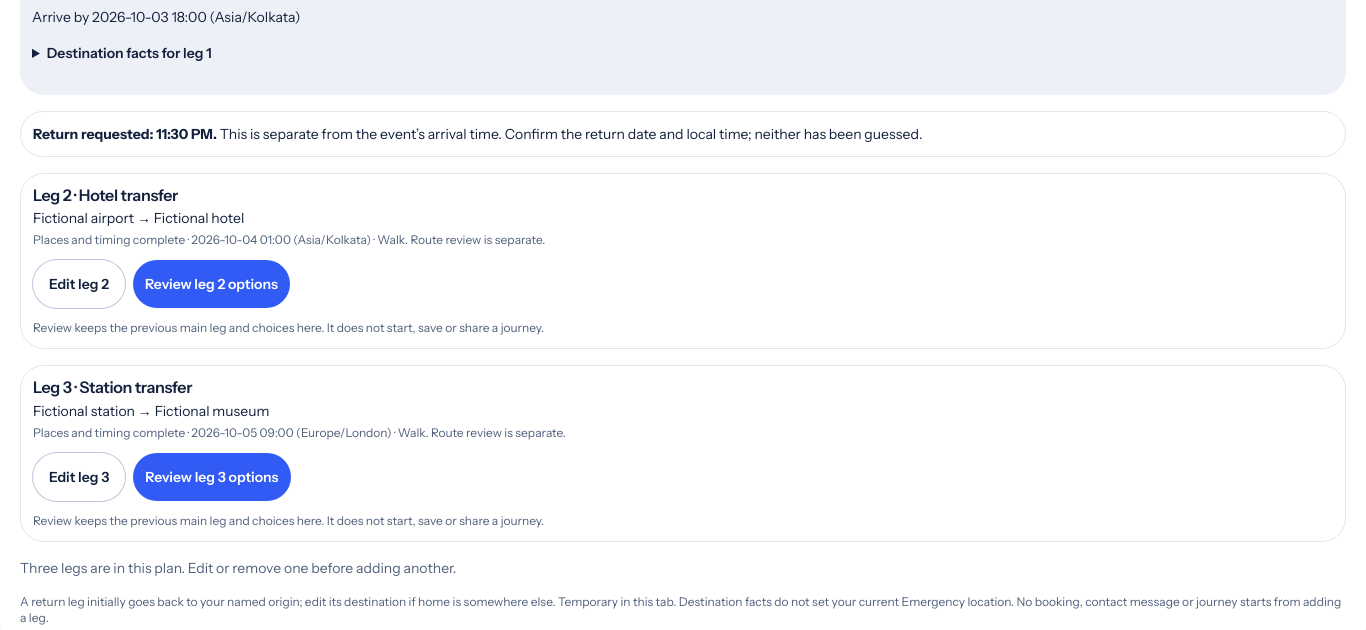
Test: progressive event return and editable travel legs › collapses completed legs, retains other legs during editing, and requires ambiguity resolution after failed search
Click the button "Edit leg 3": (79, 477) [33,453,125,501]
(page scrolled)
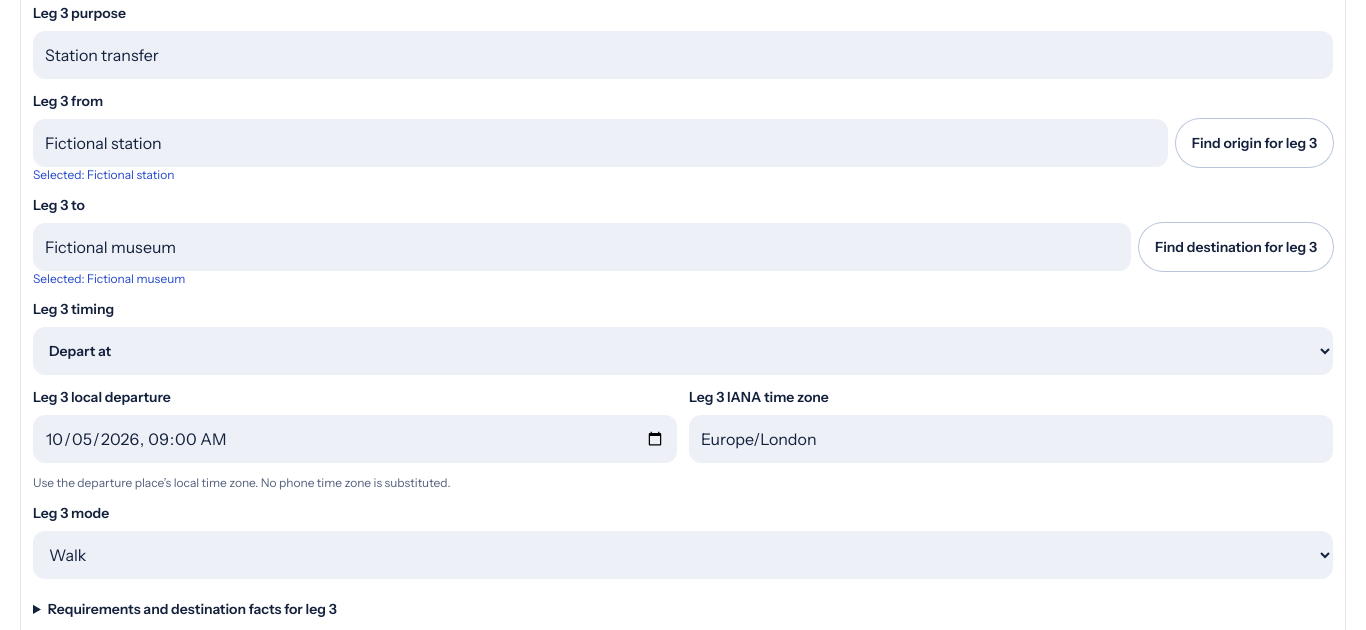
Replace the text in the field labelled "Leg 3 to" with "Ambiguous fictional hotel": (582, 247) [33,223,1131,271]
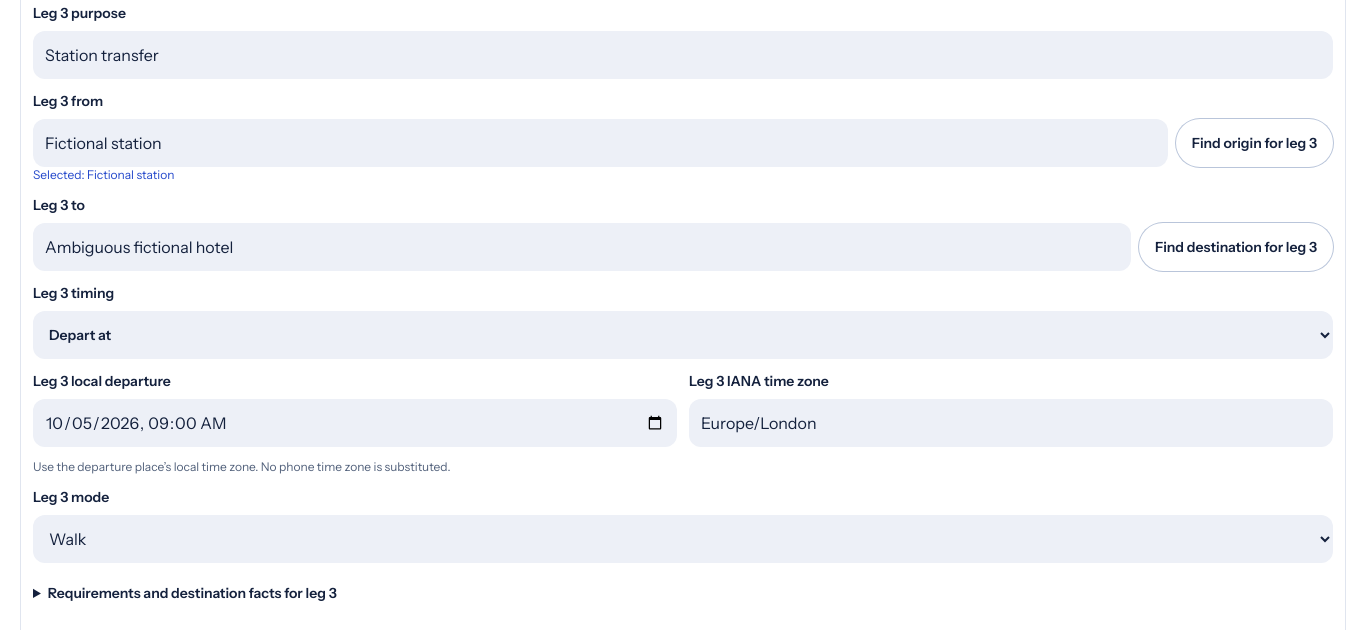
Click the button "Find destination for leg 3": (1236, 247) [1139,223,1333,271]
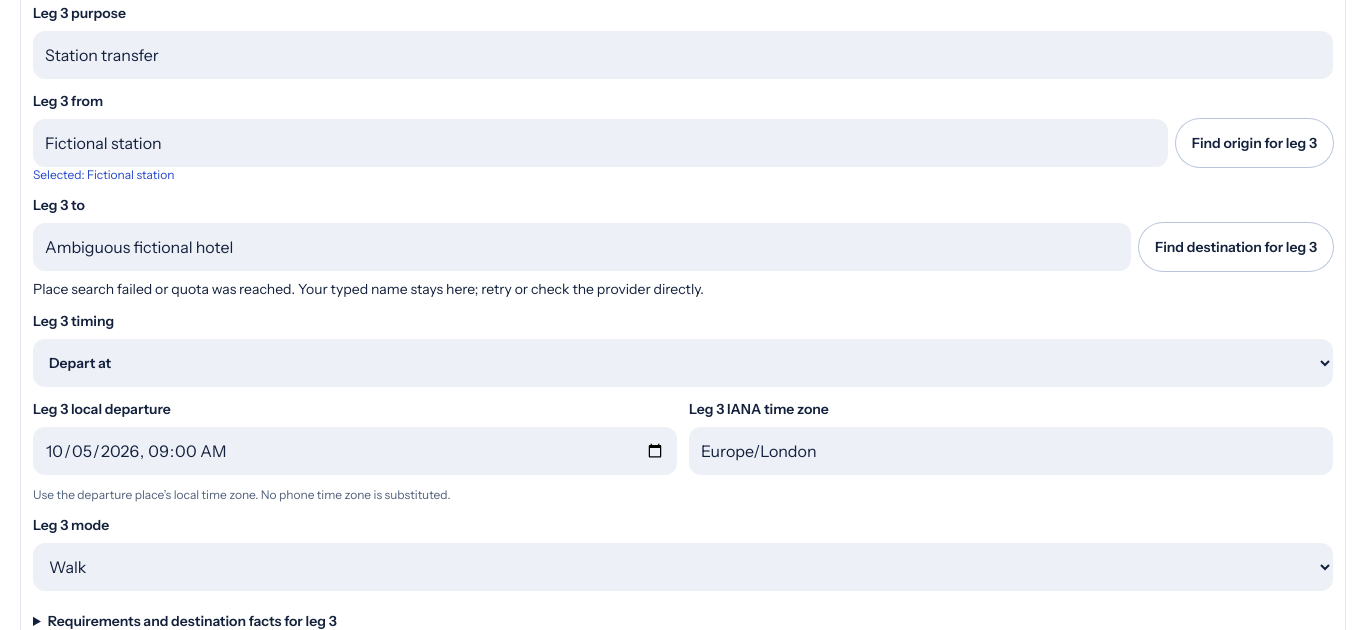
Expected: the text "Your typed name stays here" is shown, [33,280,704,298]
Click the button "Find destination for leg 3": (1236, 247) [1139,223,1333,271]
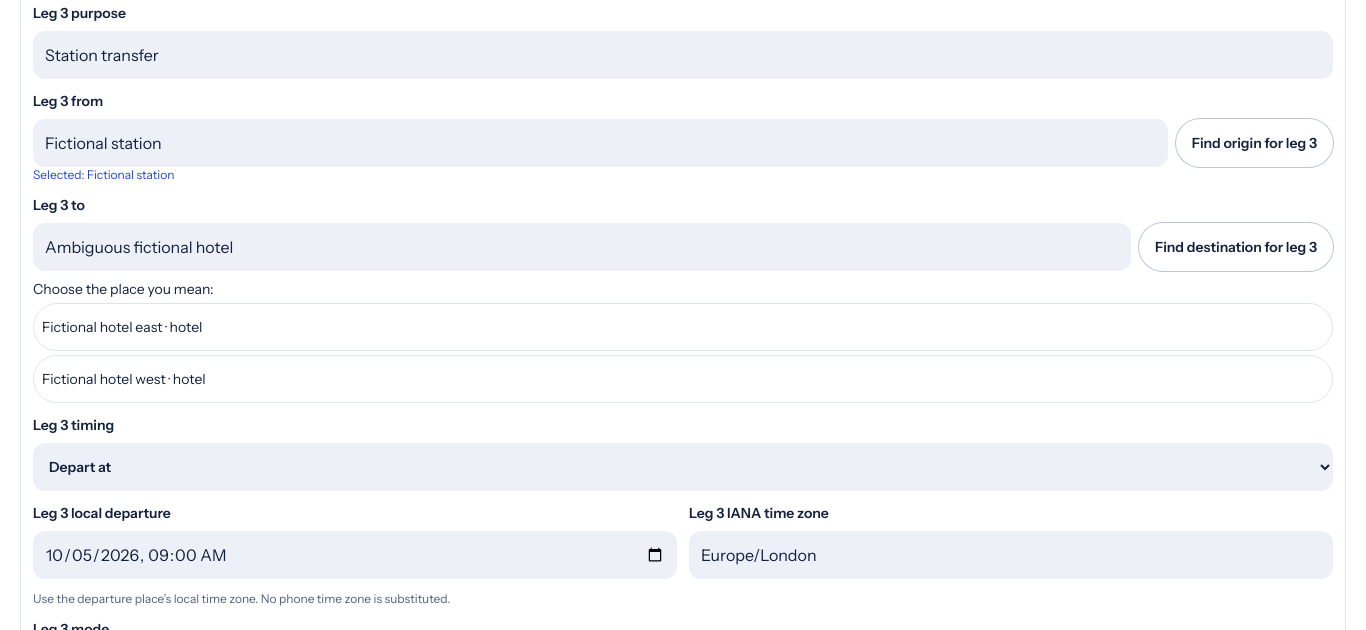
Click the button "Fictional hotel east · hotel": (102, 327) [33,303,1333,351]
(page scrolled)
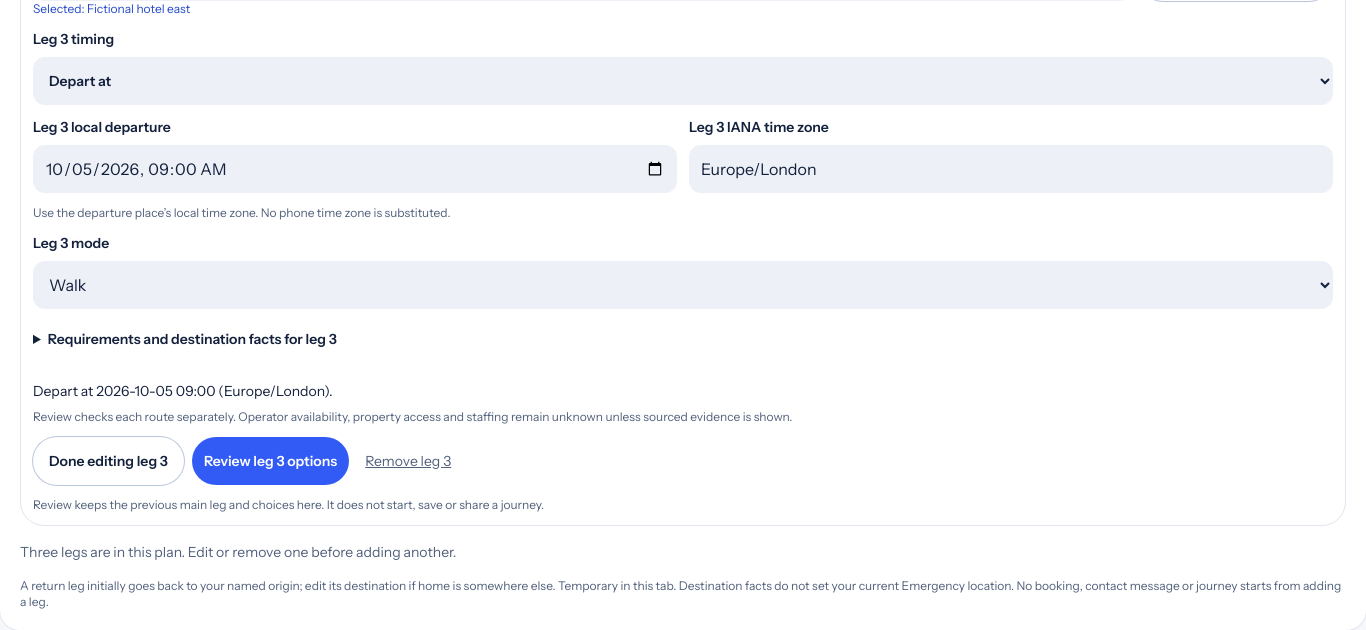
Expected: the button "Review leg 3 options" is enabled, [192,437,349,485]
